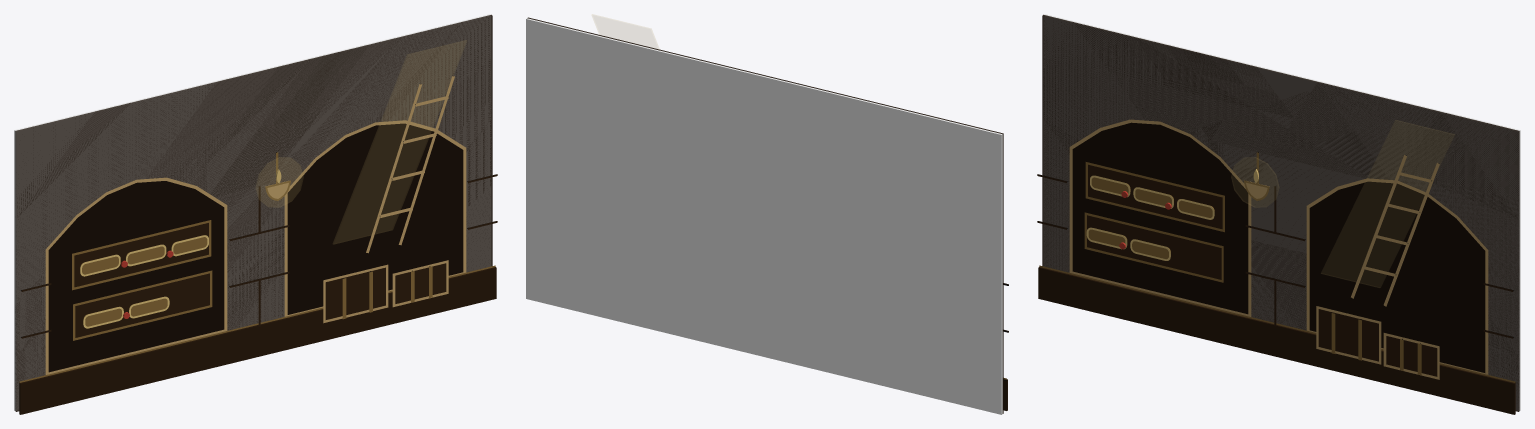
File: loc-kripta-arhiva.glb
3 renders of one model, left to right at view 1: azimuth 30°, elevation 25°; view 2: azimuth 150°, elevation 25°; view 3: azimuth 330°, elevation 25°, orthographic.
Visible parts, largest first — view 1: loc-kripta-arhiva; view 2: loc-kripta-arhiva; view 3: loc-kripta-arhiva.
Boxes of the visible parts, x1,y1,x2,y2 form: loc-kripta-arhiva: [14, 14, 497, 414]; loc-kripta-arhiva: [526, 14, 1008, 414]; loc-kripta-arhiva: [1037, 14, 1520, 414].
Bounding box in the file's own units: 5.33 × 3 × 0.54.
